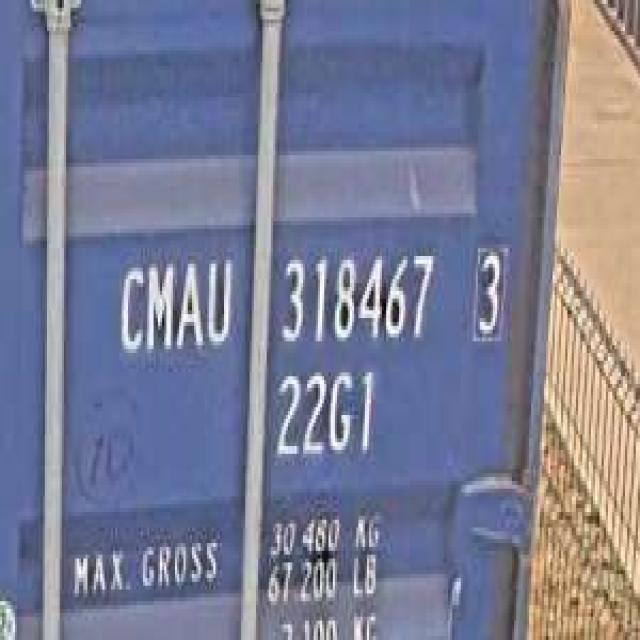dv: (467, 233, 508, 349)
owner: (111, 244, 235, 364)
serial: (276, 240, 438, 353)
size: (271, 361, 378, 469)
